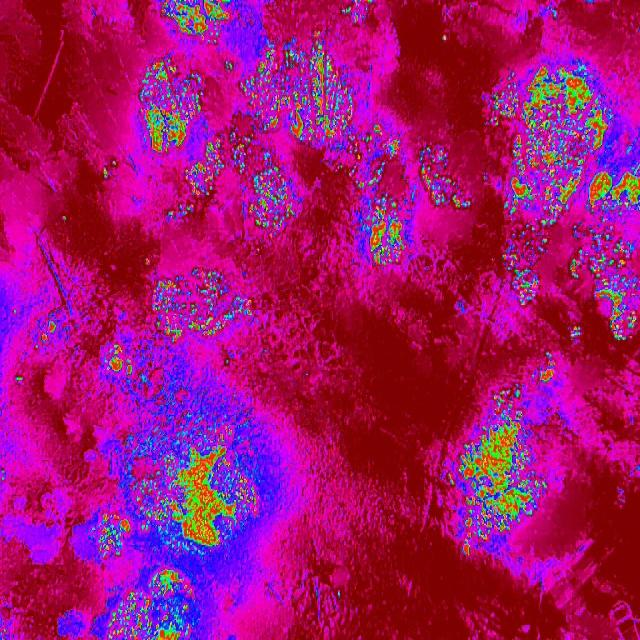fire: (90, 407, 274, 565), (482, 55, 612, 216), (446, 386, 550, 558), (246, 31, 363, 150), (570, 217, 640, 341), (150, 266, 252, 346), (136, 50, 208, 154), (101, 570, 195, 640), (500, 217, 556, 303), (252, 150, 302, 229), (359, 192, 406, 266), (421, 144, 472, 210), (158, 0, 236, 41), (611, 133, 640, 218), (366, 122, 402, 178), (102, 343, 146, 386), (152, 370, 202, 406), (185, 154, 224, 197), (336, 150, 366, 190), (341, 0, 374, 29), (532, 352, 560, 383), (227, 126, 246, 170), (36, 318, 58, 342), (164, 204, 195, 221), (101, 158, 118, 178), (207, 138, 224, 156), (539, 5, 557, 19), (224, 58, 240, 72), (238, 77, 248, 97), (368, 178, 384, 190), (0, 621, 7, 640), (0, 468, 6, 488), (440, 31, 449, 44), (15, 374, 25, 385), (61, 214, 70, 223), (12, 306, 18, 318), (337, 588, 342, 600), (223, 359, 230, 367), (635, 462, 640, 472)
